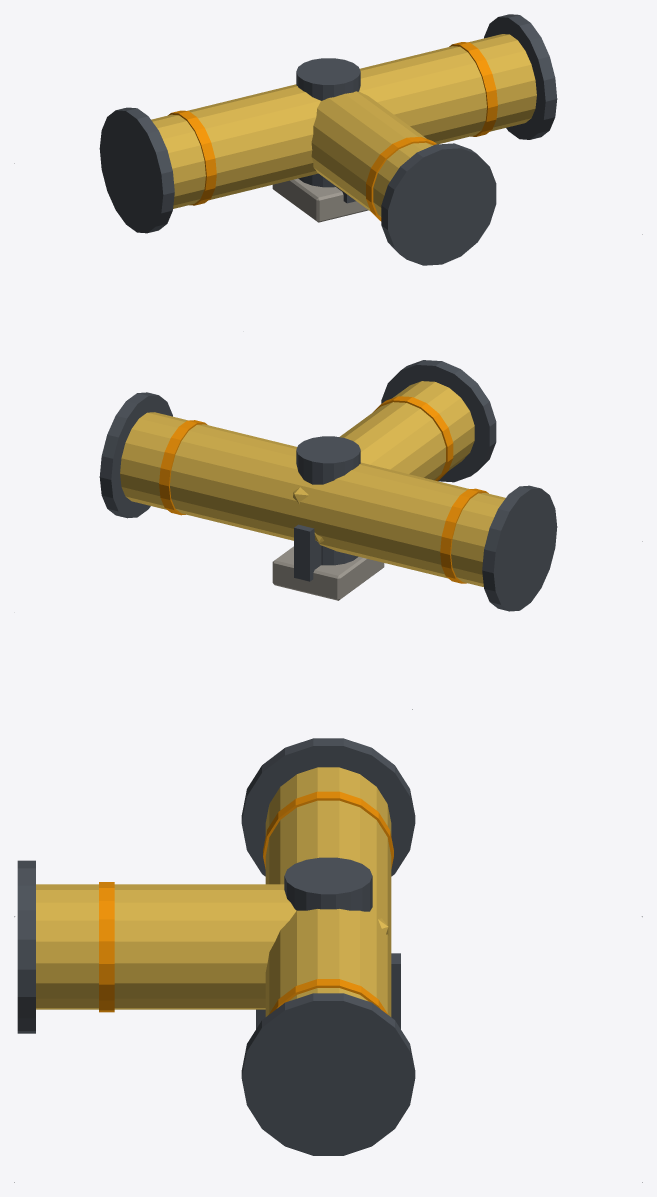
File: tuyau_te_t2.glb
The picture shows the model from 3 angles, top to bottom: view 1: azimuth 30°, elevation 25°; view 2: azimuth 150°, elevation 25°; view 3: azimuth 270°, elevation 25°; orthographic projection. The views are drawn at different scales.
Visible parts, largest first — view 1: pieces_laiton.014, pieces_acier_sombre.044, pieces_rive_t2.014, pieces_beton.044; view 2: pieces_laiton.014, pieces_acier_sombre.044, pieces_rive_t2.014, pieces_beton.044; view 3: pieces_laiton.014, pieces_acier_sombre.044, pieces_rive_t2.014.
Part boxes in pixels (bbox=[...]): pieces_laiton.014: bbox=[151, 34, 536, 217]; pieces_acier_sombre.044: bbox=[99, 14, 557, 265]; pieces_rive_t2.014: bbox=[168, 42, 497, 221]; pieces_beton.044: bbox=[272, 178, 368, 222]; pieces_laiton.014: bbox=[120, 381, 505, 586]; pieces_acier_sombre.044: bbox=[99, 360, 557, 611]; pieces_rive_t2.014: bbox=[159, 396, 488, 583]; pieces_beton.044: bbox=[272, 546, 384, 600]; pieces_laiton.014: bbox=[36, 767, 391, 1016]; pieces_acier_sombre.044: bbox=[17, 738, 415, 1155]; pieces_rive_t2.014: bbox=[99, 791, 393, 1014].
Bounding box in the file's own units: 1 × 0.318 × 1.
